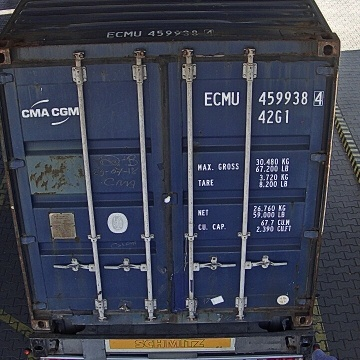serial_id: (204, 91, 323, 105)
